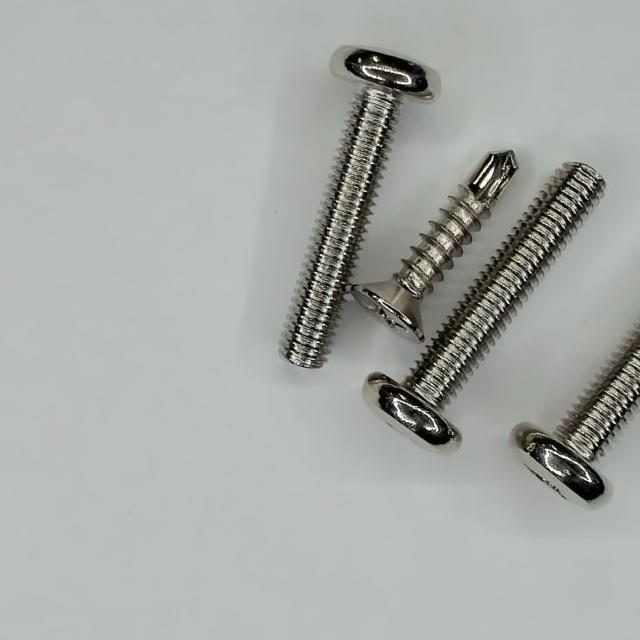Screw: (366, 163, 606, 448), (282, 46, 440, 368), (352, 151, 519, 340), (512, 326, 640, 504)
